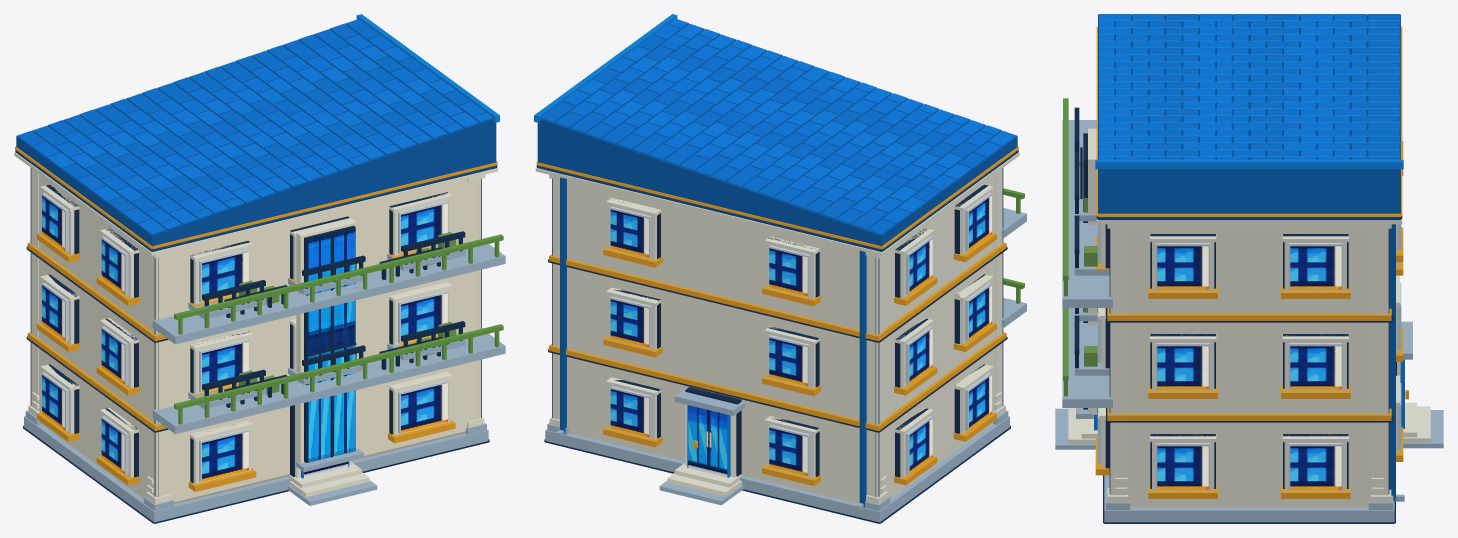
3 renders of one model, left to right at view 1: azimuth 30°, elevation 25°; view 2: azimuth 150°, elevation 25°; view 3: azimuth 270°, elevation 25°, orthographic. The views are drawn at different scales.
Visible parts, largest first — view 1: A07 连廊公寓; view 2: A07 连廊公寓; view 3: A07 连廊公寓.
Boxes of the visible parts, x1,y1,x2,y2 form: A07 连廊公寓: (14,14,505,523); A07 连廊公寓: (534,14,1026,523); A07 连廊公寓: (1055,14,1443,523).
Bounding box in the file's own units: 7.86 × 7.07 × 6.81.
2 materials, 1 textured.
